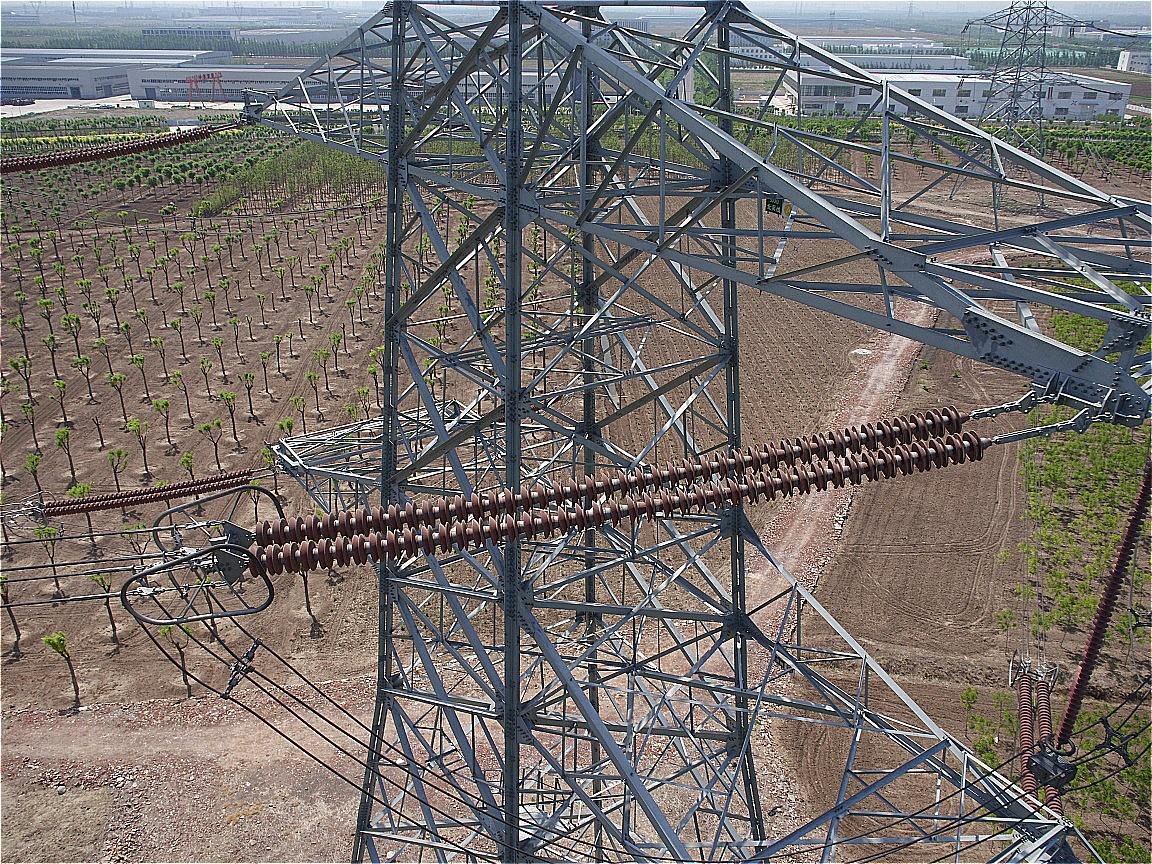insultor1: (1060, 477, 1150, 746), (43, 467, 249, 518), (1040, 682, 1067, 825), (1020, 674, 1039, 814)
insultor2: (247, 406, 983, 579)
